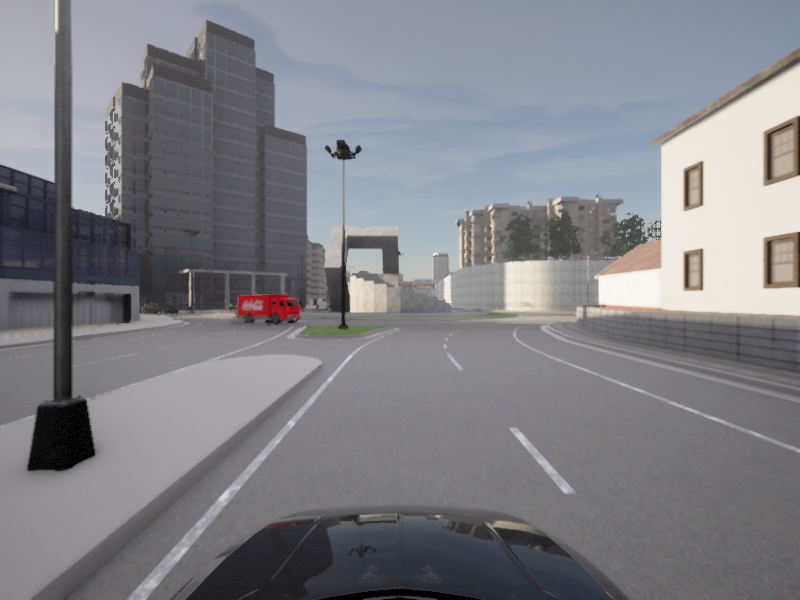vehicle: (235, 294, 305, 325), (229, 304, 244, 319)
